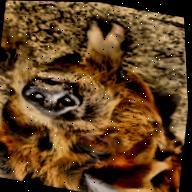boar: (0, 3, 192, 192), (0, 41, 22, 80)
